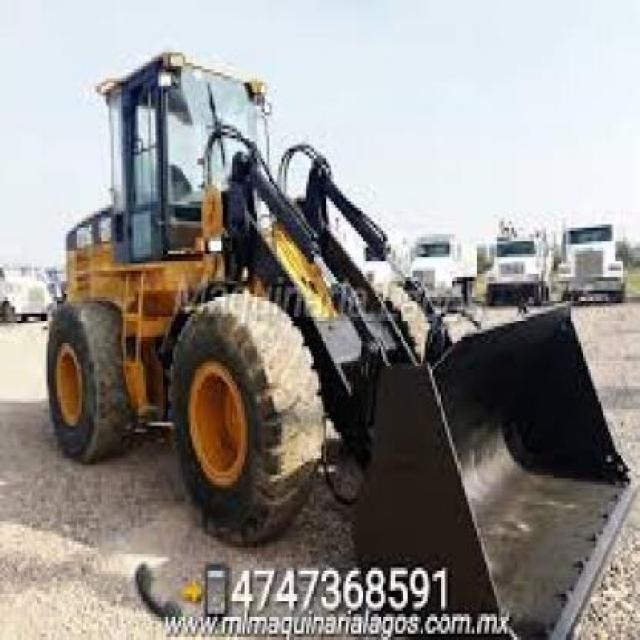buldozerpayloadergrader: (47, 44, 616, 579)
